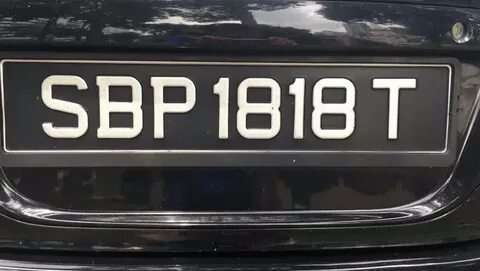number_plate: (1, 59, 455, 161)
